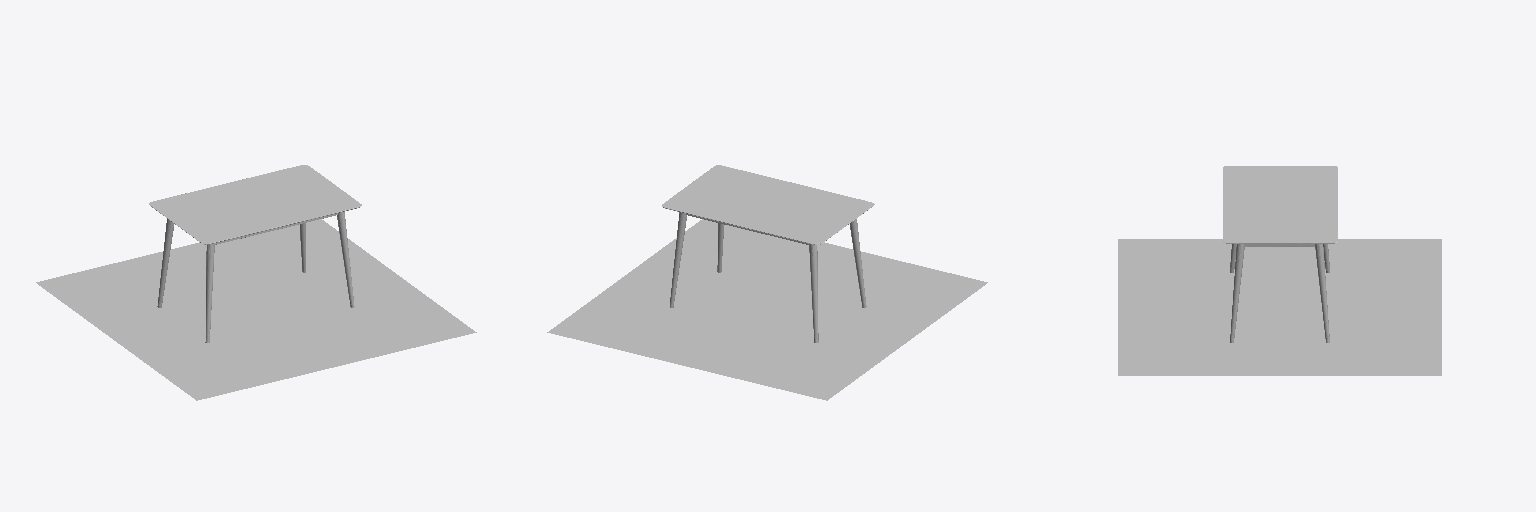
The model's file is CSTU1277.obj.
3 views of the same model, side by side, from view 1: azimuth 30°, elevation 25°; view 2: azimuth 150°, elevation 25°; view 3: azimuth 270°, elevation 25° (orthographic).
Parts seen in each view (by area): view 1: shadow_plane_v6, not_clear_obj_1_v6, not_clear_obj_0_v6; view 2: shadow_plane_v6, not_clear_obj_1_v6, not_clear_obj_0_v6; view 3: shadow_plane_v6, not_clear_obj_1_v6, not_clear_obj_0_v6.
Boxes of the visible parts, box(x1,y1,x2,y2) form: shadow_plane_v6: box(36, 219, 476, 400); not_clear_obj_1_v6: box(149, 165, 361, 244); not_clear_obj_0_v6: box(157, 212, 354, 342); shadow_plane_v6: box(547, 219, 987, 400); not_clear_obj_1_v6: box(662, 165, 874, 244); not_clear_obj_0_v6: box(670, 212, 866, 342); shadow_plane_v6: box(1118, 239, 1441, 375); not_clear_obj_1_v6: box(1223, 166, 1337, 243); not_clear_obj_0_v6: box(1230, 244, 1329, 342).
Size of the model in its own units: 210 by 73.86 by 210.